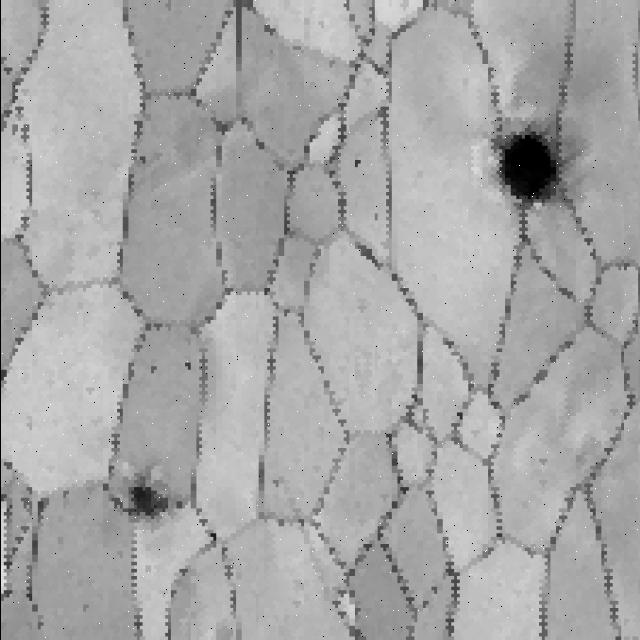good_void: (482, 117, 578, 215), (125, 474, 189, 522), (351, 155, 365, 172), (138, 152, 149, 169), (183, 358, 194, 373)
